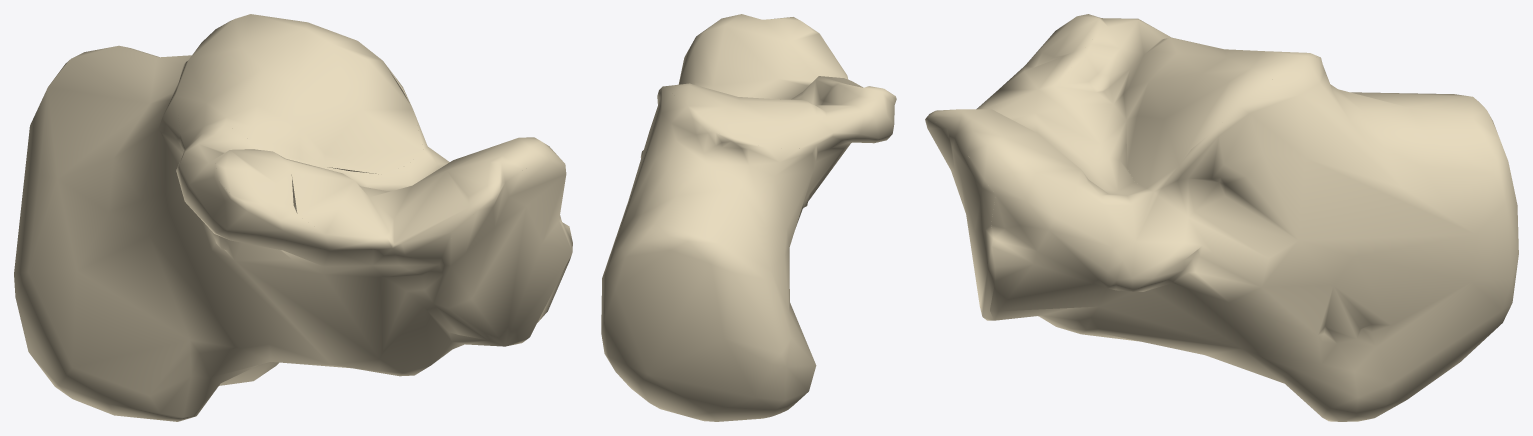
File: esqueleto-calcaneus-l.glb
3 views of the same model, side by side, from view 1: azimuth 30°, elevation 25°; view 2: azimuth 150°, elevation 25°; view 3: azimuth 270°, elevation 25° (orthographic). The views are drawn at different scales.
Parts seen in each view (by area): view 1: Calcaneus.l; view 2: Calcaneus.l; view 3: Calcaneus.l.
Boxes of the visible parts, box(x1,y1,x2,y2) form: Calcaneus.l: box(14, 14, 572, 421); Calcaneus.l: box(601, 14, 896, 421); Calcaneus.l: box(925, 14, 1518, 421).
Bounding box in the file's own units: 0.0475 × 0.0511 × 0.0757.
